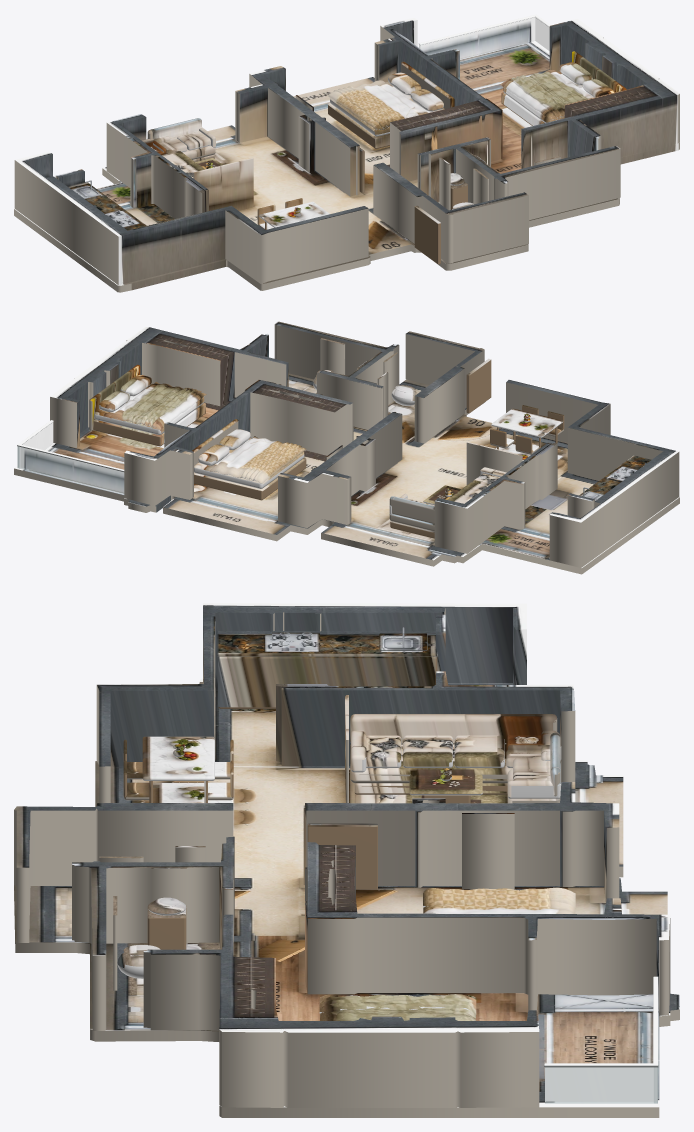
Rendered from p2-06-u06-2112-image-model.glb.
The picture shows the model from 3 angles, top to bottom: view 1: azimuth 30°, elevation 25°; view 2: azimuth 150°, elevation 25°; view 3: azimuth 270°, elevation 25°; orthographic projection. The views are drawn at different scales.
Visible parts, largest first — view 1: Partition walls, Apartment floor, Balcony glazing, Draped bed linen, Draped bed linen.002, Open oak door, Marble dining top, Draped bed linen.001, Draped bed linen.003, Walnut upholstered base, Stone worktop, Upholstered headboard (+8 smaller); view 2: Partition walls, Apartment floor, Balcony glazing, Draped bed linen.002, Draped bed linen, Walnut upholstered base, Marble dining top, Walnut upholstered base.001, Open oak door, Piped mattress, Piped mattress.001, Sofa back.001 (+10 smaller); view 3: Partition walls, Apartment floor, Kitchen cabinets, Sofa back, Balcony glazing.001, Stone worktop, Marble dining top, Open oak door.001, Draped bed linen.003, Draped bed linen.001, Upholstered sofa frame, Draped bed linen (+9 smaller).
Part boxes in pixels (box(x1,y1,x2,y2)): Partition walls: box(14, 18, 679, 285); Apartment floor: box(14, 41, 679, 292); Balcony glazing: box(419, 17, 535, 58); Draped bed linen: box(327, 80, 427, 129); Draped bed linen.002: box(500, 70, 592, 120); Open oak door: box(414, 205, 440, 264); Marble dining top: box(259, 201, 329, 227); Draped bed linen.001: box(333, 86, 396, 128); Draped bed linen.003: box(506, 75, 564, 118); Walnut upholstered base: box(328, 103, 389, 148); Stone worktop: box(68, 182, 146, 230); Upholstered headboard: box(401, 61, 454, 108); Partition walls: box(50, 321, 679, 567); Apartment floor: box(14, 373, 679, 574); Balcony glazing: box(18, 446, 124, 493); Draped bed linen.002: box(109, 382, 206, 429); Draped bed linen: box(209, 436, 306, 483); Walnut upholstered base: box(194, 457, 306, 500); Marble dining top: box(491, 408, 562, 437); Walnut upholstered base.001: box(93, 403, 205, 446); Open oak door: box(466, 358, 491, 413); Piped mattress: box(194, 438, 304, 488); Piped mattress.001: box(94, 383, 204, 434); Sofa back.001: box(389, 496, 434, 523); Partition walls: box(14, 603, 670, 1107); Apartment floor: box(14, 678, 679, 1117); Kitchen cabinets: box(218, 656, 437, 708); Sofa back: box(350, 714, 557, 744); Balcony glazing.001: box(545, 1067, 657, 1103); Stone worktop: box(217, 631, 437, 656); Marble dining top: box(142, 736, 214, 780); Open oak door.001: box(307, 823, 377, 889); Draped bed linen.003: box(319, 994, 476, 1014); Draped bed linen.001: box(423, 887, 575, 908); Upholstered sofa frame: box(350, 744, 512, 783); Draped bed linen: box(423, 888, 575, 913).
Bounding box in the file's own units: 13.94 × 1.3 × 9.12.
Materials: 14 (3 with a texture image).
